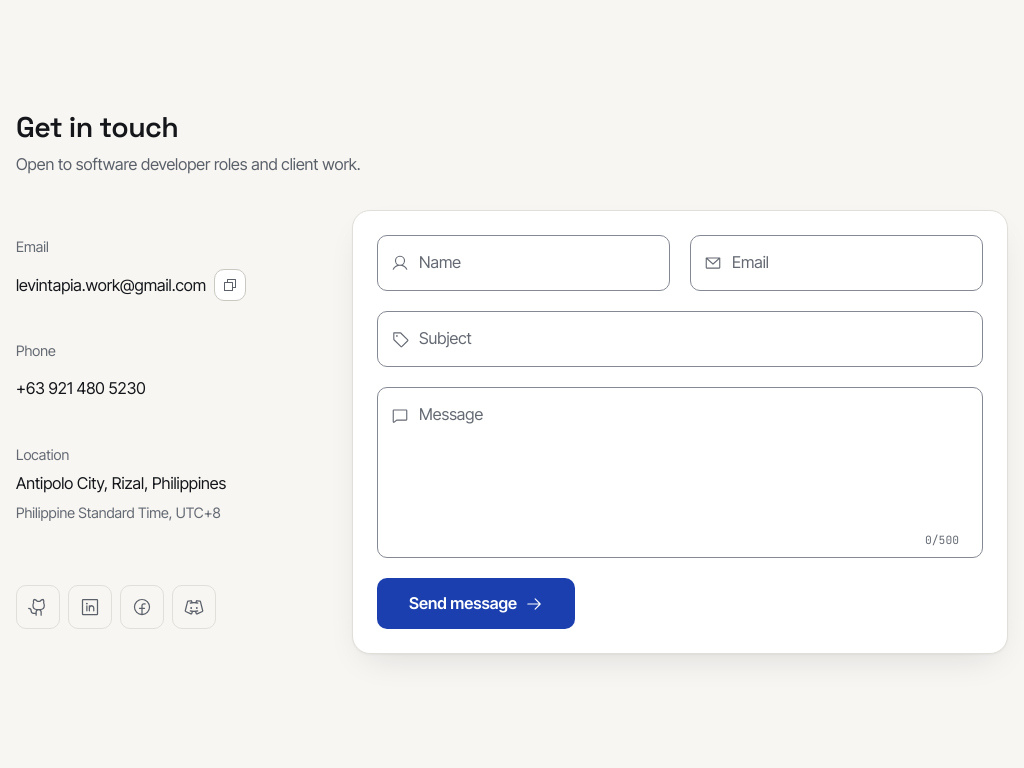
it: Contact › says so when the browser refuses the clipboard
Click the button named "copy": (230, 285) [214, 269, 246, 301]
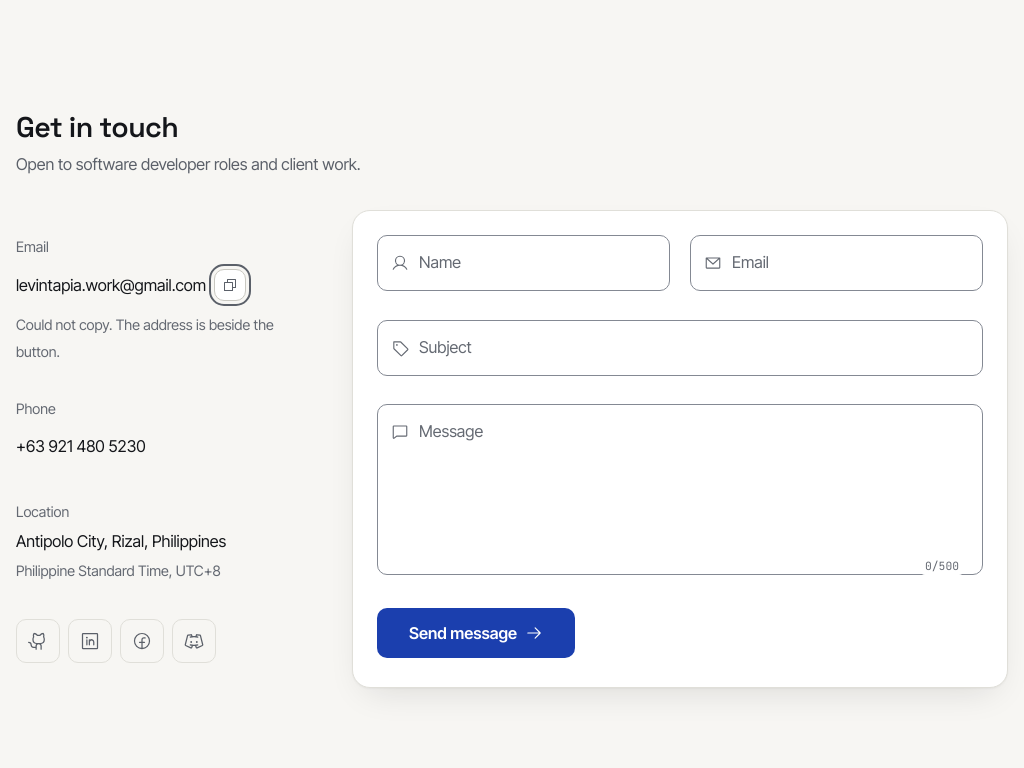
Expected: the text "Could not copy. The address is beside the button." is shown, [16, 316, 274, 360]
